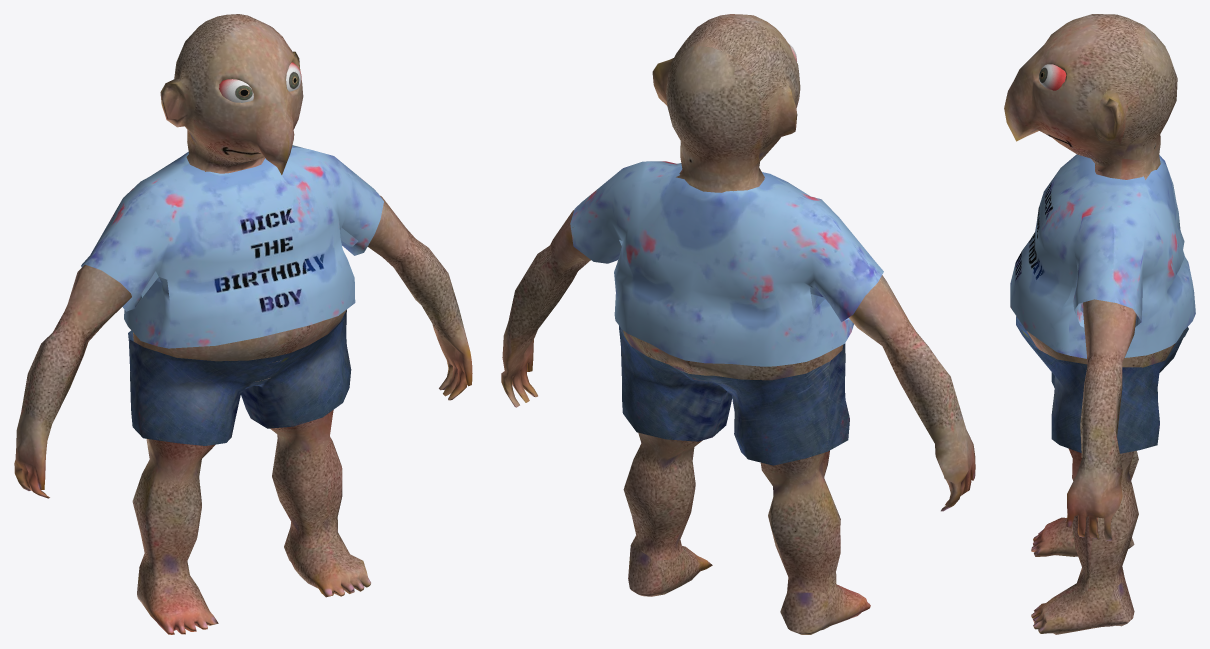
Rendered from scoobert_doobert_character_mesh.glb.
The picture shows the model from 3 angles, left to right: view 1: azimuth 30°, elevation 25°; view 2: azimuth 150°, elevation 25°; view 3: azimuth 270°, elevation 25°; orthographic projection. The views are drawn at different scales.
Visible parts, largest first — view 1: ScoobertBody_Low, ScoobertShirt_Low, ScoobertPants_Low, ScooberEye_L_Low; view 2: ScoobertBody_Low, ScoobertShirt_Low, ScoobertPants_Low; view 3: ScoobertBody_Low, ScoobertShirt_Low, ScoobertPants_Low, ScooberEye_R_Low.
Boxes of the visible parts, left/top/right/bottom form: ScoobertBody_Low: left=14, top=14, right=472, bottom=634; ScoobertShirt_Low: left=81, top=145, right=383, bottom=348; ScoobertPants_Low: left=128, top=310, right=351, bottom=445; ScooberEye_L_Low: left=219, top=79, right=253, bottom=102; ScoobertBody_Low: left=501, top=14, right=975, bottom=634; ScoobertShirt_Low: left=570, top=161, right=883, bottom=366; ScoobertPants_Low: left=619, top=326, right=849, bottom=465; ScoobertBody_Low: left=1004, top=14, right=1177, bottom=634; ScoobertShirt_Low: left=1010, top=154, right=1195, bottom=358; ScoobertPants_Low: left=1016, top=316, right=1188, bottom=453; ScooberEye_R_Low: left=1039, top=64, right=1066, bottom=90.
Bounding box in the file's own units: 0.0699 × 0.0849 × 0.0258.
5 materials, 5 textured.
